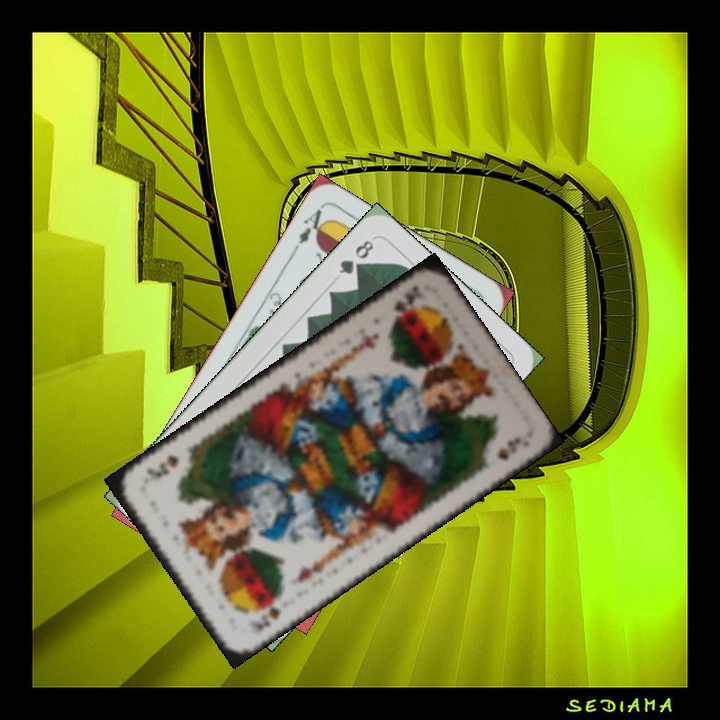EA: (287, 205, 331, 257)
G8: (334, 235, 377, 278)
SK: (387, 280, 427, 323), (246, 592, 286, 634)
